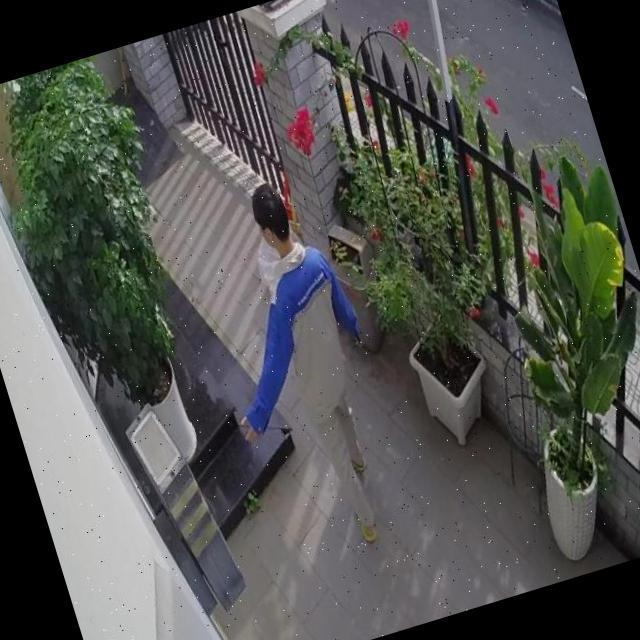person: (179, 166, 423, 563)
